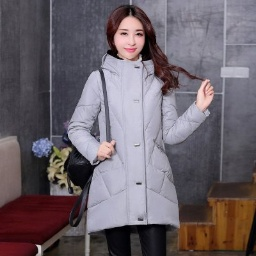face: (106, 5, 182, 82)
